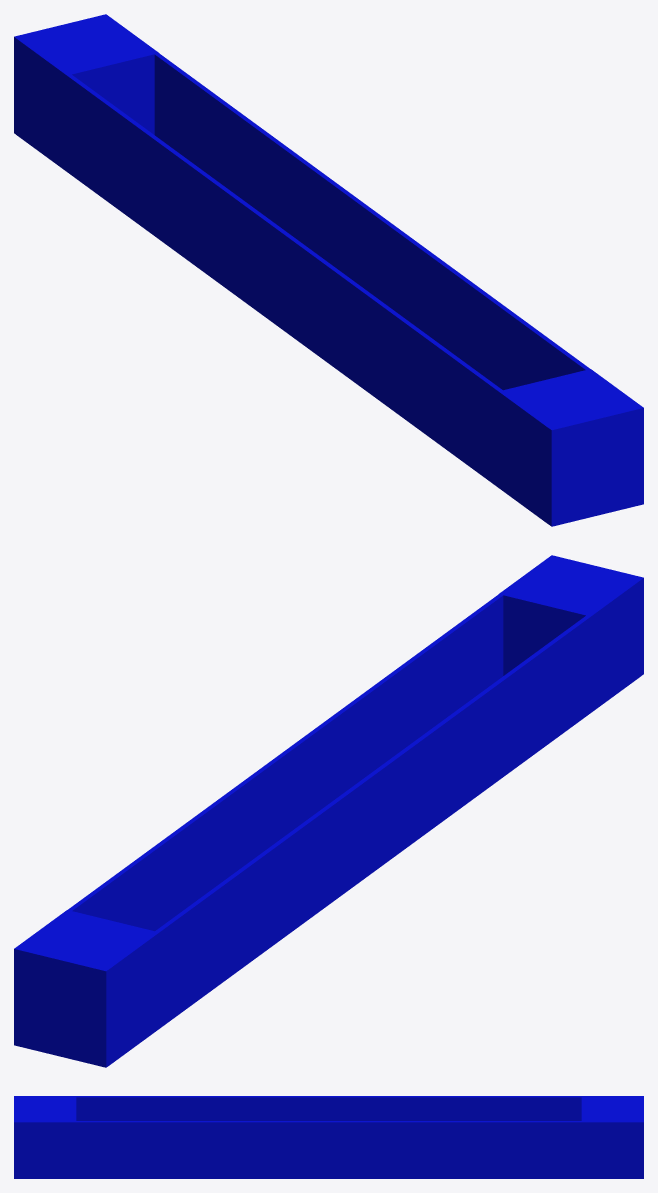
3 views of the same model, one above another, from view 1: azimuth 30°, elevation 25°; view 2: azimuth 150°, elevation 25°; view 3: azimuth 270°, elevation 25° (orthographic). The views are drawn at different scales.
Visible parts, largest first — view 1: tmp_export_Cube.009; view 2: tmp_export_Cube.009; view 3: tmp_export_Cube.009.
Part boxes in pixels (<box>): tmp_export_Cube.009: <box>14,14,643,526</box>; tmp_export_Cube.009: <box>14,555,643,1067</box>; tmp_export_Cube.009: <box>14,1096,643,1178</box>.
Bounding box in the file's own units: 2 × 20.21 × 2.
